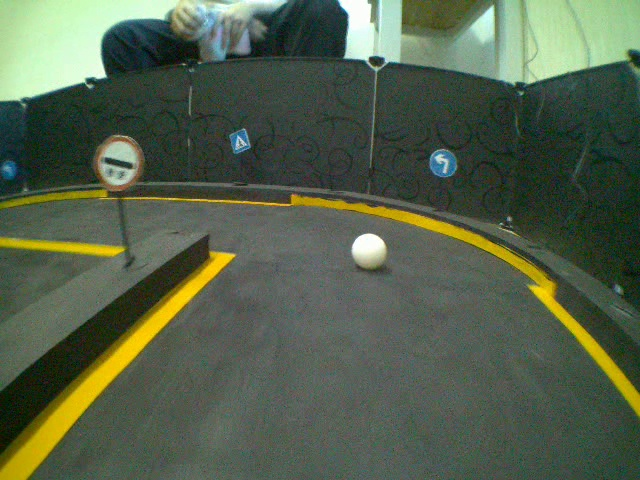ball: (350, 229, 393, 274)
